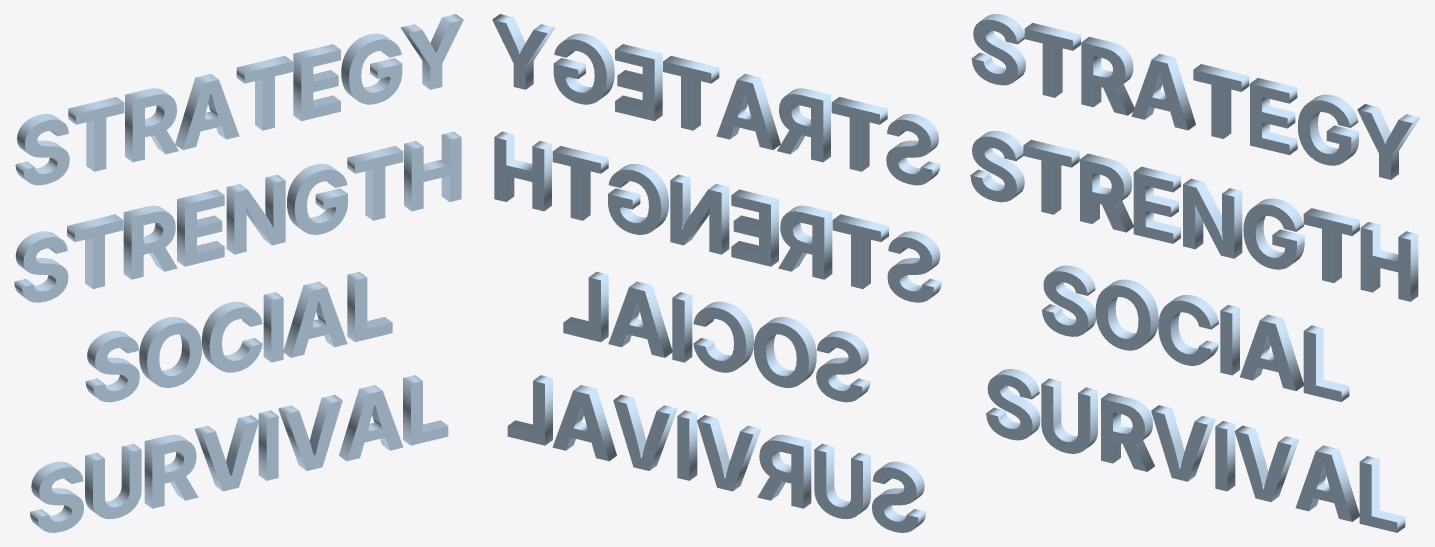
Rendered from bb_set_sign_pillars.fbx.
3 views of the same model, side by side, from view 1: azimuth 30°, elevation 25°; view 2: azimuth 150°, elevation 25°; view 3: azimuth 330°, elevation 25° (orthographic).
Visible parts, largest first — view 1: bb_set_sign_pillars; view 2: bb_set_sign_pillars; view 3: bb_set_sign_pillars.
Boxes of the visible parts, x1,y1,x2,y2 form: bb_set_sign_pillars: (14, 14, 463, 532); bb_set_sign_pillars: (492, 14, 941, 532); bb_set_sign_pillars: (970, 14, 1420, 532).
Size of the model in its own units: 0.9759 by 0.8754 by 0.03.
